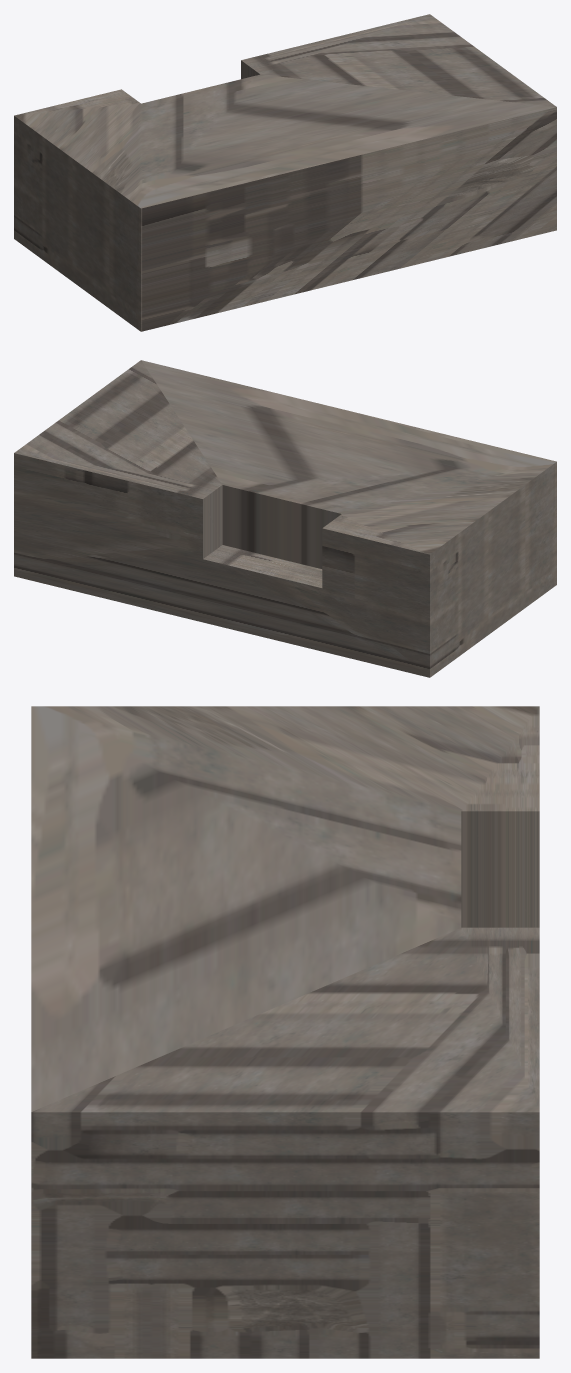
Rendered from sb_obj_outdoor009_AncientTemple_WallD_col.fbx.
3 renders of one model, top to bottom at view 1: azimuth 30°, elevation 25°; view 2: azimuth 150°, elevation 25°; view 3: azimuth 270°, elevation 25°, orthographic. The views are drawn at different scales.
Parts seen in each view (by area): view 1: sb_obj_outdoor009_AncientTemple_WallD_col; view 2: sb_obj_outdoor009_AncientTemple_WallD_col; view 3: sb_obj_outdoor009_AncientTemple_WallD_col.
Boxes of the visible parts, x1=… form: sb_obj_outdoor009_AncientTemple_WallD_col: x1=14, y1=14, x2=556, y2=331; sb_obj_outdoor009_AncientTemple_WallD_col: x1=14, y1=360, x2=556, y2=677; sb_obj_outdoor009_AncientTemple_WallD_col: x1=31, y1=706, x2=539, y2=1358.
Bounding box in the file's own units: 7.36 × 2.08 × 3.89.
